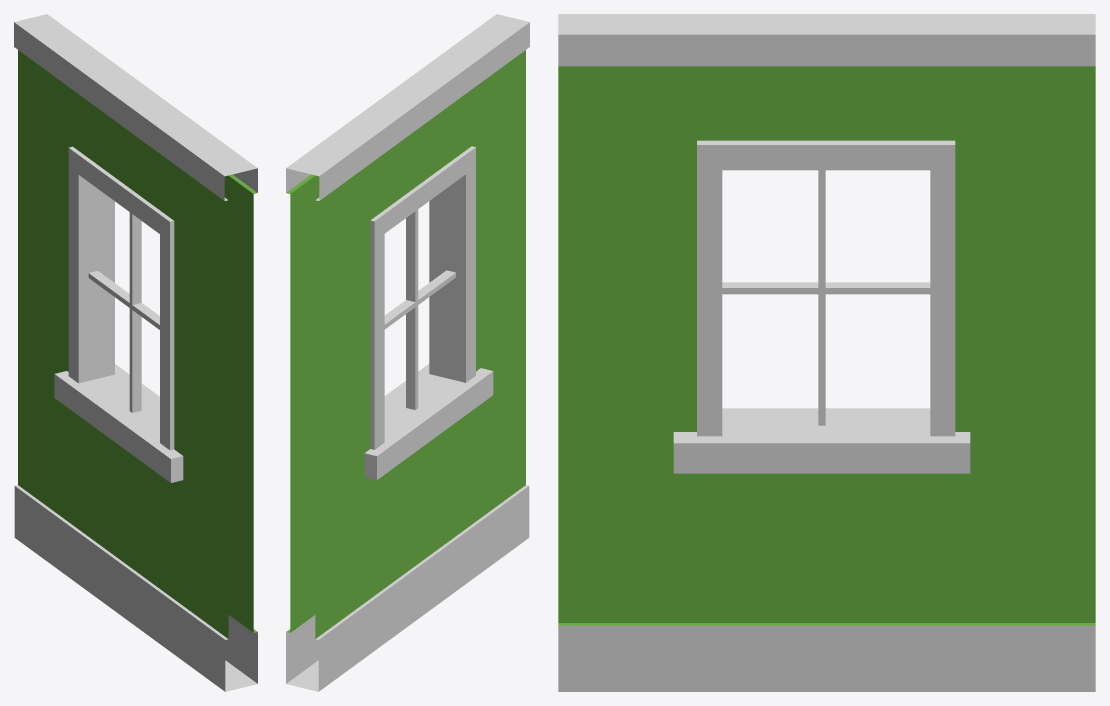
File: wall_window.fbx
3 renders of one model, left to right at view 1: azimuth 30°, elevation 25°; view 2: azimuth 150°, elevation 25°; view 3: azimuth 270°, elevation 25°, orthographic. The views are drawn at different scales.
Visible parts, largest first — view 1: walL_window; view 2: walL_window; view 3: walL_window.
Part boxes in pixels (bbox=[...]): walL_window: bbox=[14, 14, 257, 691]; walL_window: bbox=[286, 14, 529, 691]; walL_window: bbox=[558, 14, 1095, 691].
Bounding box in the file's own units: 30.57 × 270 × 200.
